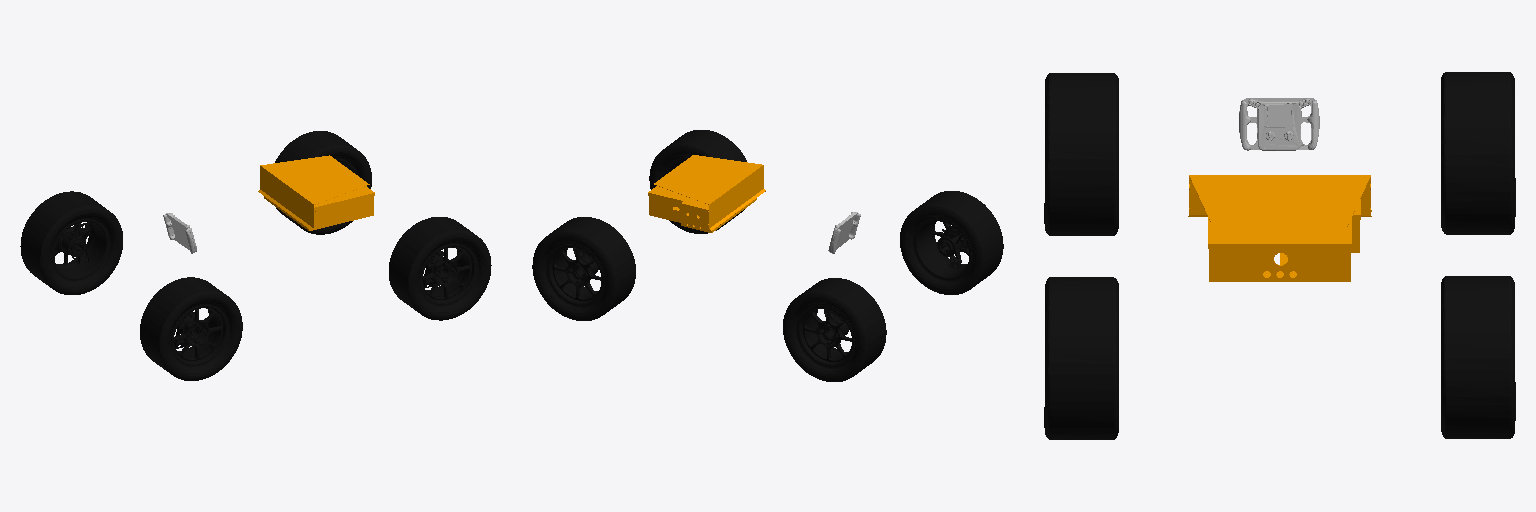
The robot description file, URDF, robot "DEWarta":
<?xml version="1.0" encoding="utf-8"?>
<!-- This URDF was automatically created by SolidWorks to URDF Exporter! Originally created by [author] ([email redacted]) 
     Commit Version: 1.6.0-1-g15f4949  Build Version: 1.6.7594.29634
     For more information, please see http://wiki.ros.org/sw_urdf_exporter -->
<robot name="DEWarta">
  <link name="base_link">
    <inertial>
      <origin xyz="1.1218 -1.0138 -3.1419E-06" rpy="0 0 0" />
      <mass value="80809" />
      <inertia ixx="53762" ixy="0.10779" ixz="0.080518" iyy="194890" iyz="4.0047E-05" izz="194890" />
    </inertial>

    <visual>
      <origin xyz="0 0 0" rpy="1.57 0 0" />
      <geometry>
        <mesh filename="package://PUTM_EV_model_presentation/urdf/DEWarta/meshes/base.stl" />
      </geometry>
      <material name="">
        <color rgba="0.2 0.2 0.2 1" />
      </material>

      <collision>
        <origin xyz="0 0 0" rpy="1.57 0 0" />
        <geometry>
          <mesh filename="package://PUTM_EV_model_presentation/urdf/DEWarta/meshes/base.stl" />
        </geometry>
      </collision>

    </visual>

  </link>
  <link name="wheel_front_left">
    <visual>
      <origin xyz="0 0 0" rpy="3.14 0 0" />
      <geometry>
        <mesh filename="package://PUTM_EV_model_presentation/urdf/DEWarta/meshes/wheel.stl" />
      </geometry>
      <material name="">
        <color rgba="0.1 0.1 0.1 1" />
      </material>
    </visual>

    <collision>
      <origin xyz="0 0 0" rpy="3.14 0 0" />
      <geometry>
        <mesh filename="package://PUTM_EV_model_presentation/urdf/DEWarta/meshes/wheel.stl" />
      </geometry>
      <material name="">
        <color rgba="0.1 0.1 0.1 1" />
      </material>
    </collision>
  </link>

  <link name="wheel_front_right">
    <visual>
      <origin xyz="0 0 0" rpy="3.14 0 0" />
      <geometry>
        <mesh filename="package://PUTM_EV_model_presentation/urdf/DEWarta/meshes/wheel.stl" />
      </geometry>
      <material name="">
        <color rgba="0.1 0.1 0.1 1" />
      </material>
    </visual>
    <collision>
      <origin xyz="0 0 0" rpy="3.14 0 0" />
      <geometry>
        <mesh filename="package://PUTM_EV_model_presentation/urdf/DEWarta/meshes/wheel.stl" />
      </geometry>
      <material name="">
        <color rgba="0.1 0.1 0.1 1" />
      </material>
    </collision>
  </link>

  <link name="w_heel_back_left">
    <visual>
      <origin xyz="0 0 0" rpy="3.14 0 0" />
      <geometry>
        <mesh filename="package://PUTM_EV_model_presentation/urdf/DEWarta/meshes/wheel.stl" />
      </geometry>
      <material name="">
        <color rgba="0.1 0.1 0.1 1" />
      </material>
    </visual>
    <collision>
      <origin xyz="0 0 0" rpy="3.14 0 0" />
      <geometry>
        <mesh filename="package://PUTM_EV_model_presentation/urdf/DEWarta/meshes/wheel.stl" />
      </geometry>
      <material name="">
        <color rgba="0.1 0.1 0.1 1" />
      </material>
    </collision>
  </link>

  <link name="w_heel_back_right">
    <visual>
      <origin xyz="0 0 0" rpy="3.14 0 0" />
      <geometry>
        <mesh filename="package://PUTM_EV_model_presentation/urdf/DEWarta/meshes/wheel.stl" />
      </geometry>
      <material name="">
        <color rgba="0.1 0.1 0.1 1" />
      </material>
    </visual>
    <collision>
      <origin xyz="0 0 0" rpy="3.14 0 0" />
      <geometry>
        <mesh filename="package://PUTM_EV_model_presentation/urdf/DEWarta/meshes/wheel.stl" />
      </geometry>
      <material name="">
        <color rgba="0.1 0.1 0.1 1" />
      </material>
    </collision>
  </link>

  <link name="areo">
    <visual>
      <origin xyz="0 0 0" rpy="1.57 0 0" />
      <geometry>
        <mesh filename="package://PUTM_EV_model_presentation/urdf/DEWarta/meshes/areo.stl" />
      </geometry>
      <material name="">
        <color rgba="0.1 0.219 0.458 1" />
      </material>
    </visual>
    <collision>
      <origin xyz="0 0 0" rpy="1.57 0 0" />
      <geometry>
        <mesh filename="package://PUTM_EV_model_presentation/urdf/DEWarta/meshes/areo.stl" />
      </geometry>
      <material name="">
        <color rgba="0.1 0.219 0.458 1" />
      </material>
    </collision>
  </link>

  <link name="box">
    <visual>
      <origin xyz="0 0 0" rpy="1.57 0 0" />
      <geometry>
        <mesh filename="package://PUTM_EV_model_presentation/urdf/DEWarta/meshes/box.stl" />
      </geometry>
      <material name="">
        <color rgba="1.0 0.647 0.0 1" />
      </material>
    </visual>
    <origin xyz="0 0 0" rpy="1.57 0 0" />
    <geometry>
      <mesh filename="package://PUTM_EV_model_presentation/urdf/DEWarta/meshes/box.stl" />
    </geometry>
    <material name="">
      <color rgba="1.0 0.647 0.0 1" />
    </material>
  </link>

  <link name="steer">
    <visual>
      <origin xyz="0 0 0" rpy="1.57 1.57 0" />
      <geometry>
        <mesh filename="package://PUTM_EV_model_presentation/urdf/DEWarta/meshes/steer2.stl" />
      </geometry>
      <material name="">
        <color rgba="0.75 0.75 0.75 1" />
      </material>
    </visual>
    <origin xyz="0 0 0" rpy="1.57 0 0" />
    <geometry>
      <mesh filename="package://PUTM_EV_model_presentation/urdf/DEWarta/meshes/steer2.stl" />
    </geometry>
    <material name="">
      <color rgba="0.75 0.75 0.75 1" />
    </material>
  </link>

  <joint name="base_link_to_wheel_front_left" type="revolute">
    <origin xyz="0 -0.557 0.249" rpy="0.0 0.0 0.0" />
    <parent link="base_link" />
    <child link="wheel_front_left" />
    <axis xyz="0 0 1" />
    <limit lower="-0.3" upper="0.3" effort="0" velocity="1" />
  </joint>

  <joint name="base_link_to_wheel_front_right" type="revolute">
    <origin xyz="0 0.557 0.249" rpy="0.0 0.0 3.14" />
    <parent link="base_link" />
    <child link="wheel_front_right" />
    <axis xyz="0 0 1" />
    <limit lower="-0.3" upper="0.3" effort="0" velocity="1" />
  </joint>

  <joint name="base_link_to_kolo_tyl_left" type="fixed">
    <origin xyz="1.55 -0.557 0.249" rpy="0.0 0.0 0" />
    <parent link="base_link" />
    <child link="w_heel_back_left" />
    <axis xyz="0 0 1" />

  </joint>

  <joint name="base_link_to_kolo_tyl_right" type="fixed">
    <origin xyz="1.55 0.557 0.249" rpy="0.0 0.0 3.14" />
    <parent link="base_link" />
    <child link="w_heel_back_right" />
    <axis xyz="0 0 1" />

  </joint>

  <joint name="base_link_to_kolo_areo" type="fixed">
    <origin xyz="0.00 0.00 0.00" rpy="0.0 0.0 0.0" />
    <parent link="base_link" />
    <child link="areo" />
    <axis xyz="0 0 1" />

  </joint>

  <joint name="base_link_to_kolo_box" type="fixed">
    <origin xyz="0.00 0.00 0.00" rpy="0.0 0.0 0.0" />
    <parent link="base_link" />
    <child link="box" />
    <axis xyz="0 0 1" />

  </joint>

  <joint name="base_link_wheel_steer" type="revolute">
    <origin xyz="0.3 0 0.5" rpy="0.0 0.0 0.0" />
    <parent link="base_link" />
    <child link="steer" />
    <axis xyz="1 0 0" />
    <limit lower="-0.3" upper="0.3" effort="0" velocity="1" />

  </joint>
</robot>

--- What the picture shows (computed from the rendered views, not written in the file) ---
The picture shows the robot from 3 angles, left to right: view 1: azimuth 30°, elevation 25°; view 2: azimuth 150°, elevation 25°; view 3: azimuth 270°, elevation 25°; orthographic projection.
Model DEWarta with 8 links and 7 joints (3 revolute, 4 fixed), rooted at base_link, posed all joints at 0.
Visible links, largest first — view 1: wheel_front_left, w_heel_back_left, wheel_front_right, box, w_heel_back_right, steer; view 2: w_heel_back_right, wheel_front_left, wheel_front_right, box, w_heel_back_left, steer; view 3: box, w_heel_back_right, wheel_front_right, wheel_front_left, w_heel_back_left, steer.
Link boxes in pixels (box(x1,y1,x2,y2)): wheel_front_left: box(140, 277, 242, 380); w_heel_back_left: box(389, 217, 491, 320); wheel_front_right: box(20, 191, 122, 294); box: box(258, 155, 374, 230); w_heel_back_right: box(275, 131, 371, 234); steer: box(163, 213, 196, 253); w_heel_back_right: box(532, 217, 635, 320); wheel_front_left: box(900, 191, 1003, 294); wheel_front_right: box(783, 278, 886, 381); box: box(648, 155, 765, 232); w_heel_back_left: box(649, 130, 746, 233); steer: box(828, 212, 860, 253); box: box(1188, 175, 1371, 281); w_heel_back_right: box(1441, 276, 1515, 438); wheel_front_right: box(1441, 72, 1515, 234); wheel_front_left: box(1044, 73, 1118, 235); w_heel_back_left: box(1044, 277, 1118, 439); steer: box(1239, 98, 1319, 150).
Bounding box of the posed robot: 2.08 × 1.51 × 0.6383 m (x, y, z).
Meshes: 5 distinct files referenced, 6 mesh visuals loaded (3 binary STL); not drawn: 2 (reference not matched to a file when rendering).
